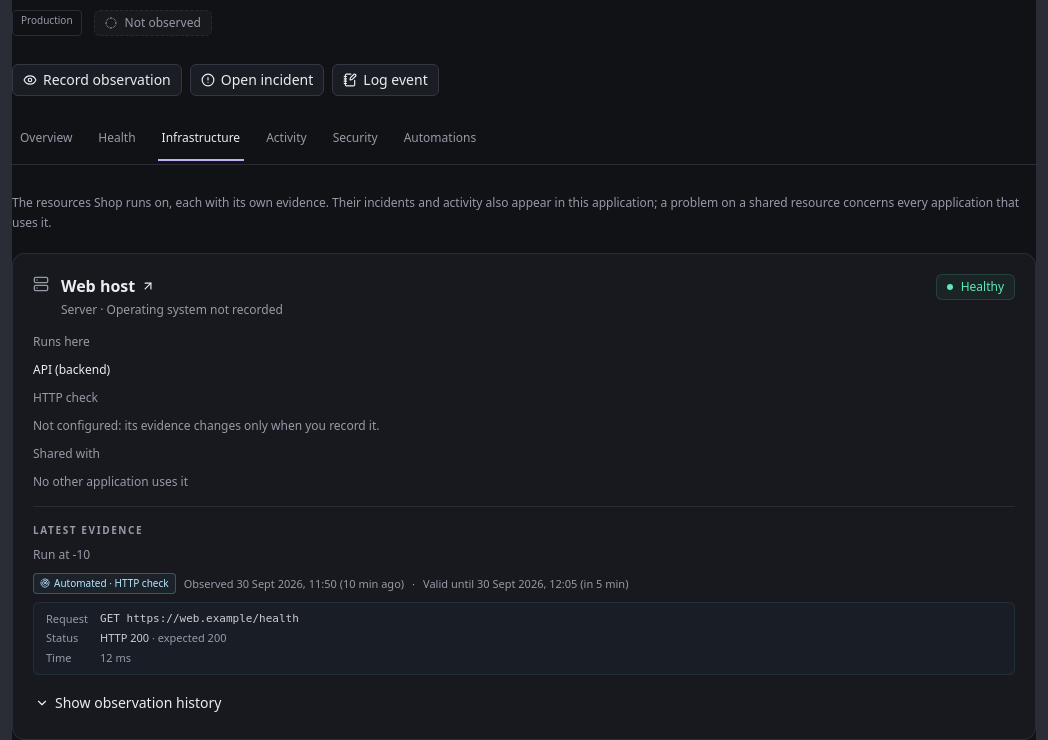
Test case: a resource’s observation history › opens from the resources an application runs on
(page scrolled)
Click the button "Show observation history" at (128,703), box [25, 687, 232, 719]
(page scrolled)
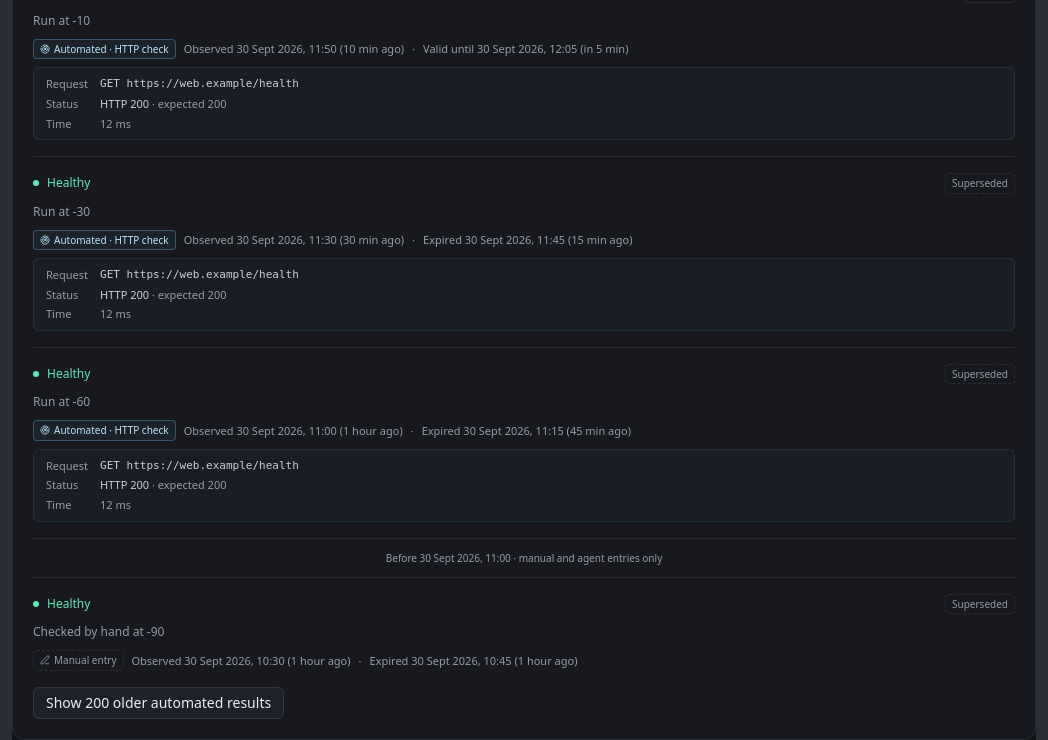
Now the text "Checked by hand at -90" is shown, box [33, 623, 164, 640]
